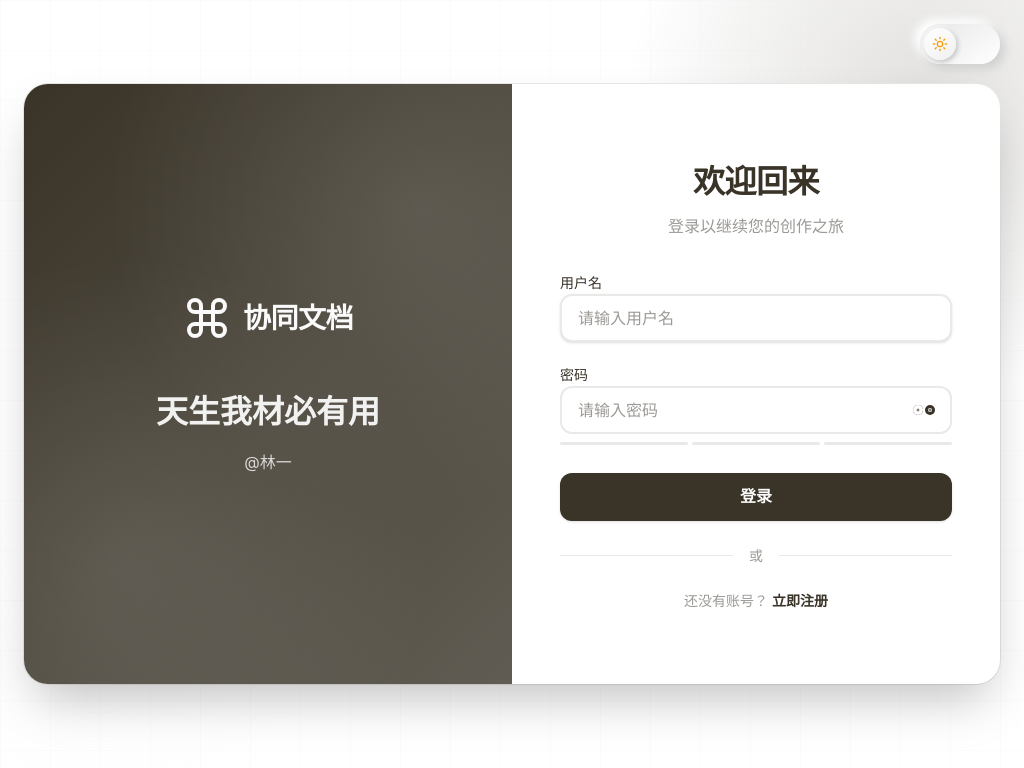
Test: Login Page › UI-005: should switch to register form
Step 1. Click the button "立即注册" → {"x": 800, "y": 600}, box [772,590,828,610]
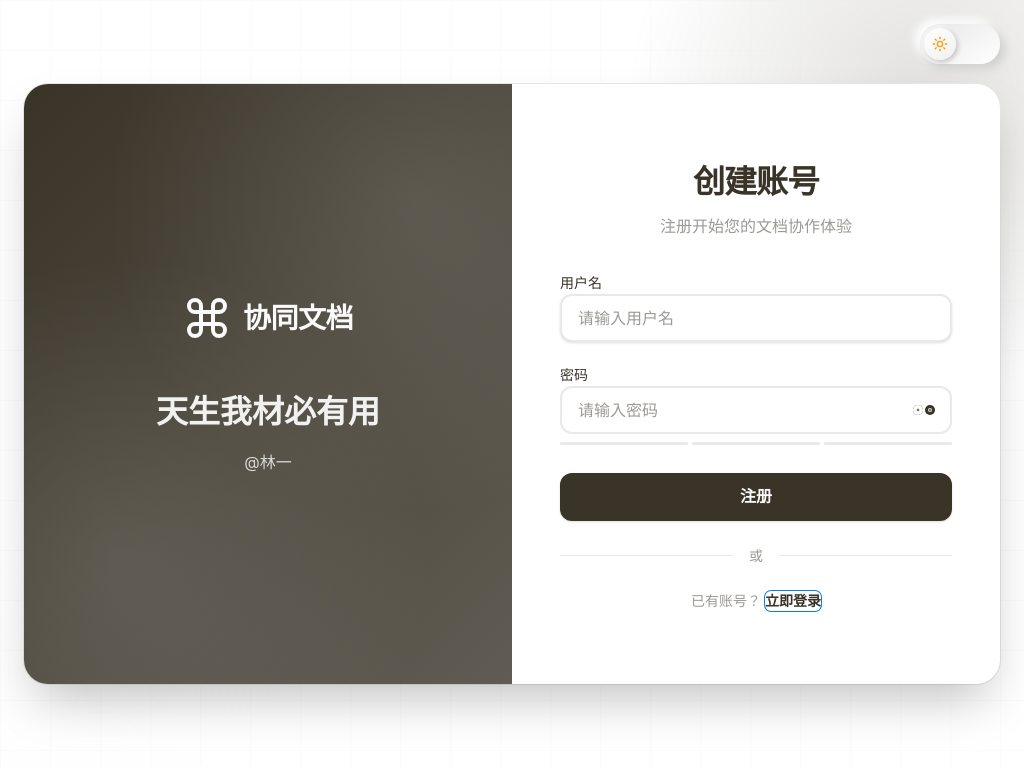
Now the heading "创建账号" is shown, box [693,162,819,200]
